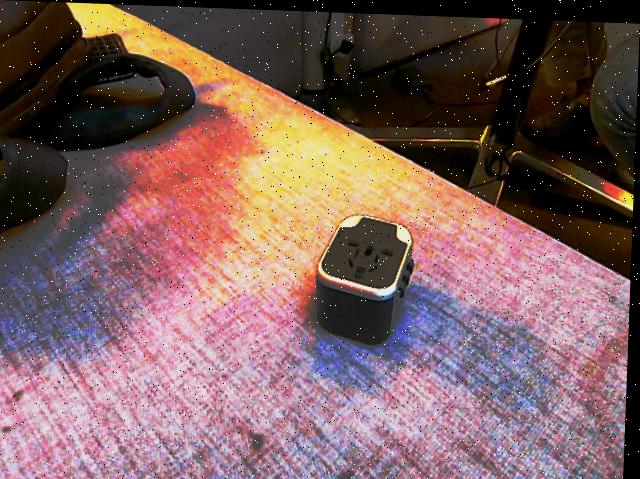adapter: (315, 209, 417, 343)
